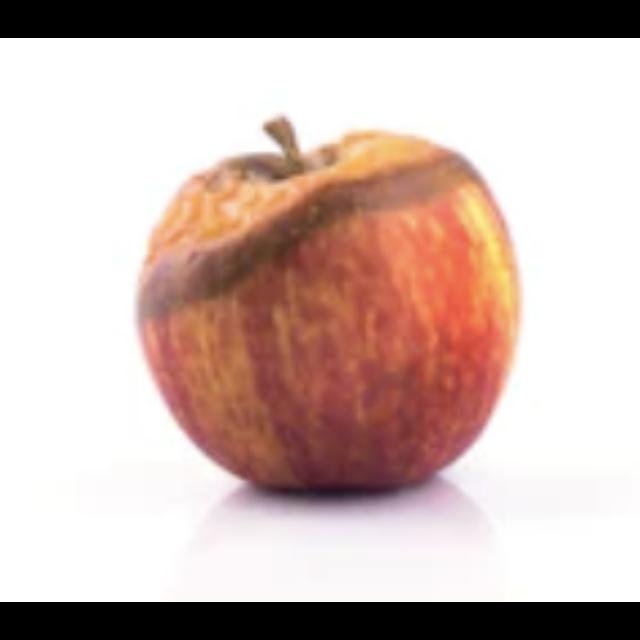Apel Tidak Segar: (136, 127, 524, 499)
